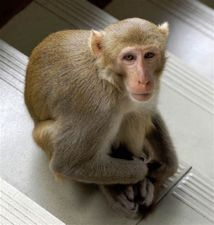monkey: (29, 14, 199, 208)
